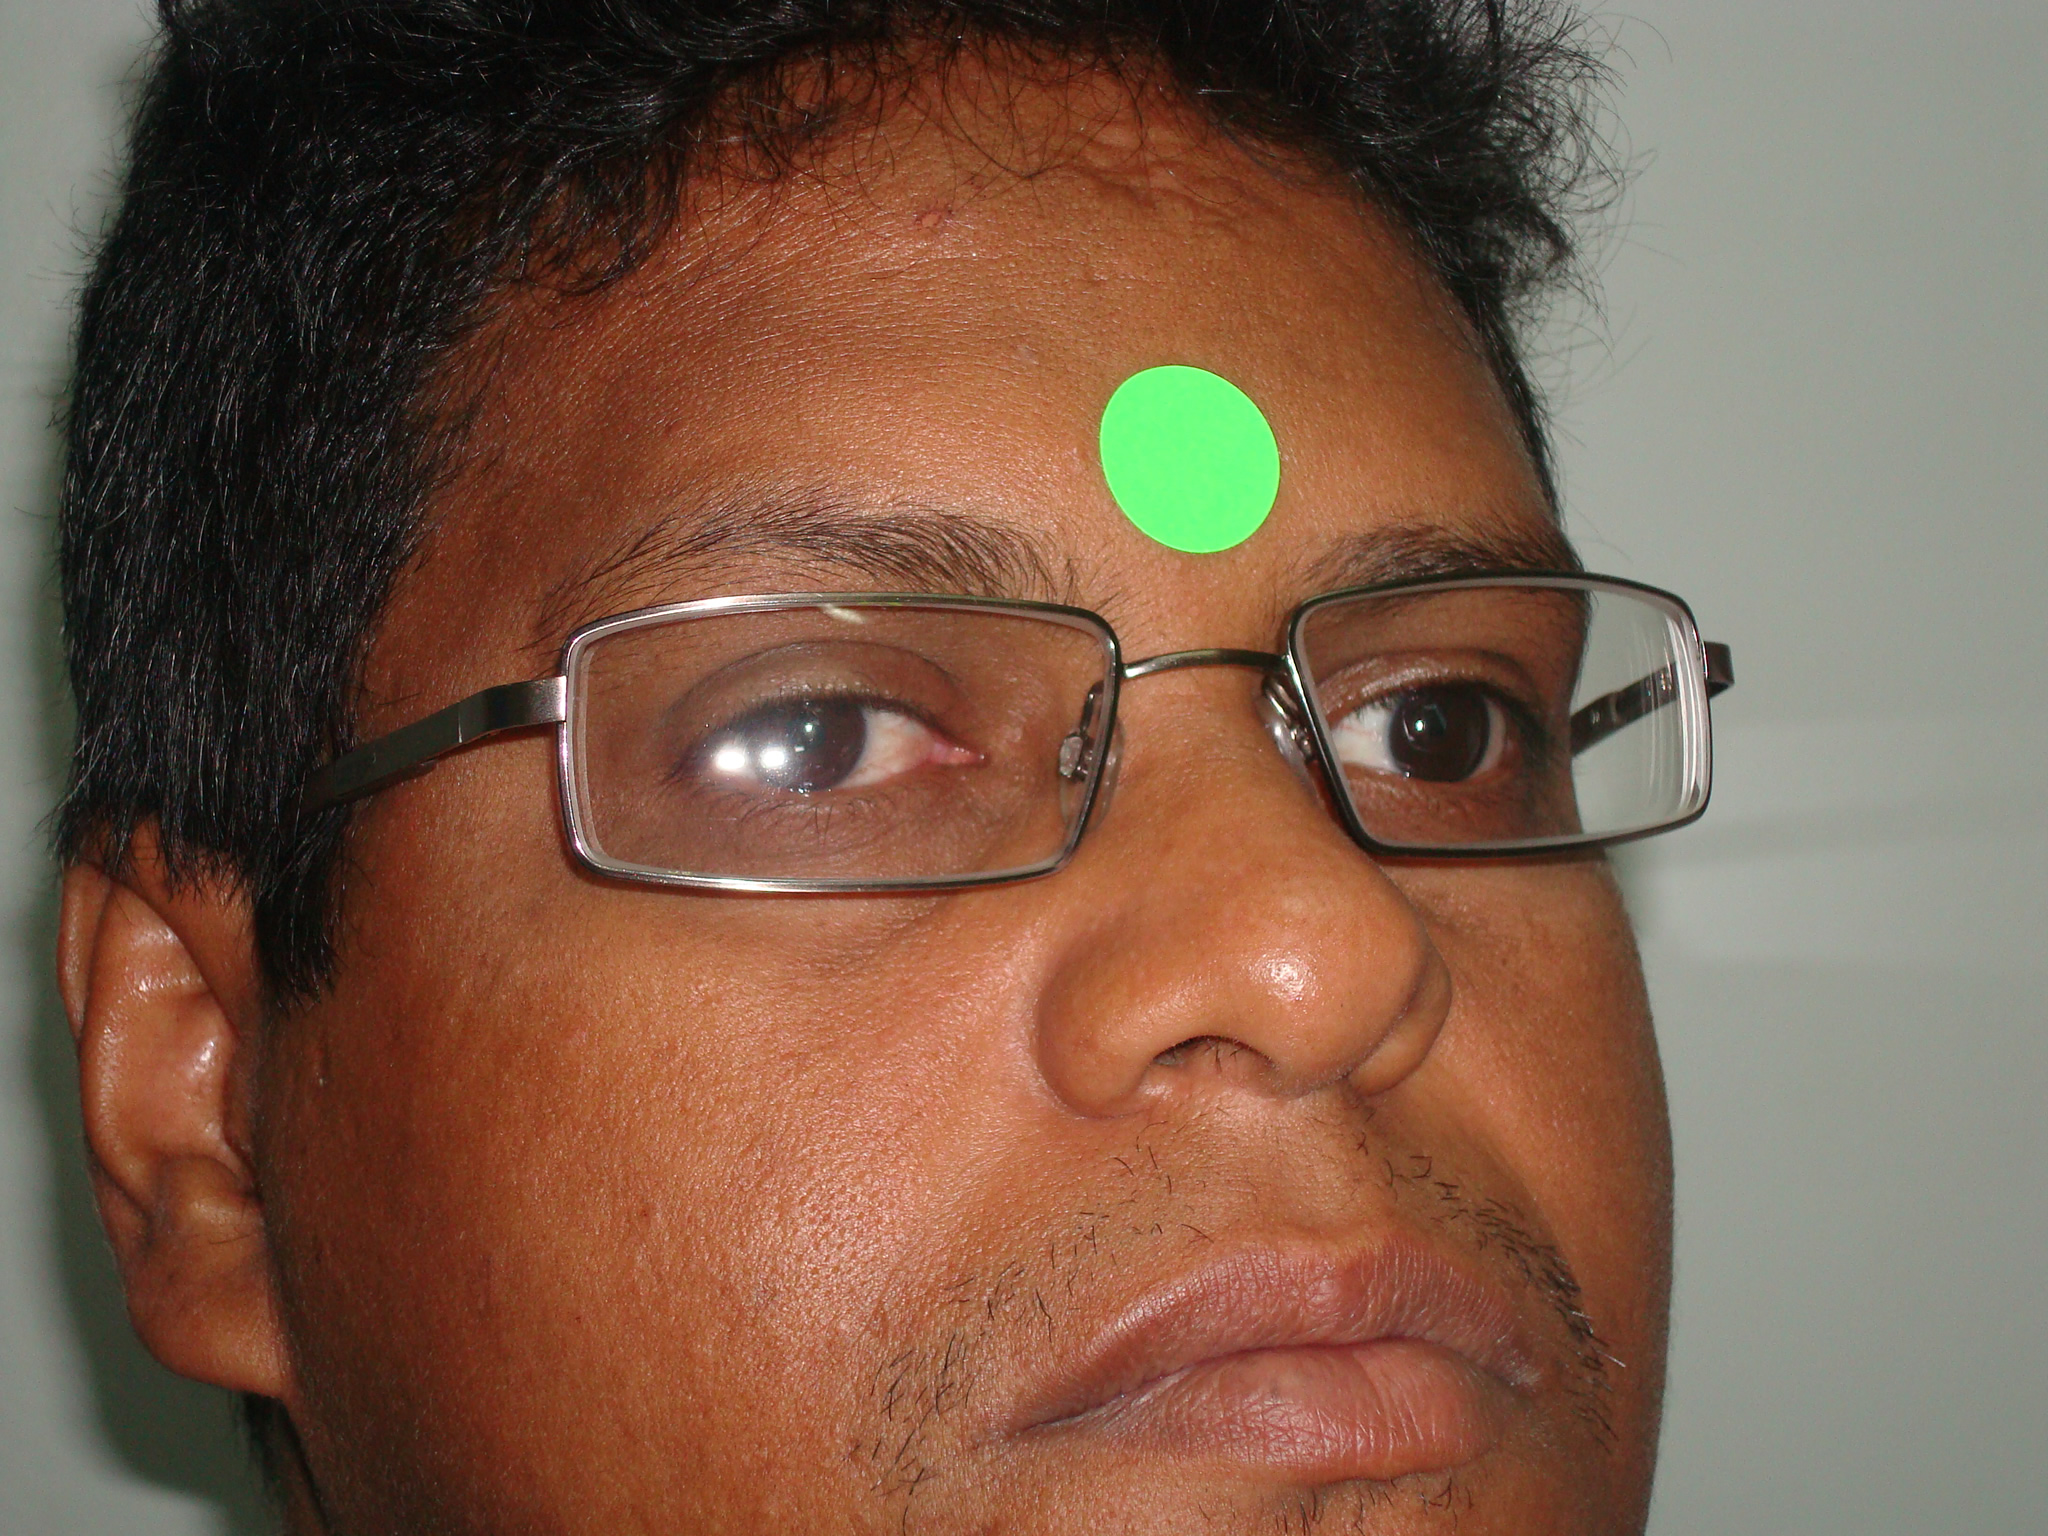flash: (1409, 715, 1429, 736), (800, 718, 818, 737)
limbo: (743, 678, 869, 789), (1382, 665, 1487, 773)
